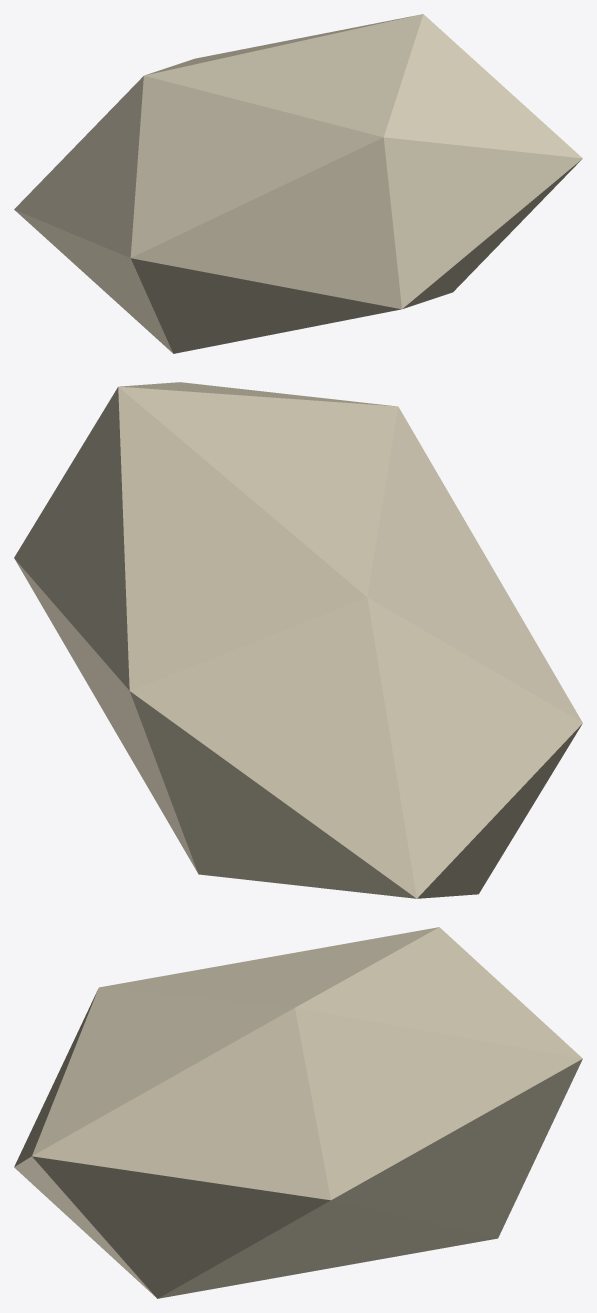
Rendered from gore_09.glb.
3 renders of one model, top to bottom at view 1: azimuth 30°, elevation 25°; view 2: azimuth 150°, elevation 25°; view 3: azimuth 270°, elevation 25°, orthographic. The views are drawn at different scales.
Visible parts, largest first — view 1: CHUNK; view 2: CHUNK; view 3: CHUNK.
Part boxes in pixels (box(x1,y1,x2,y2)): CHUNK: box(14, 14, 582, 353); CHUNK: box(14, 382, 582, 898); CHUNK: box(14, 927, 582, 1298).
Size of the model in its own units: 0.0738 by 0.0544 by 0.0763.
